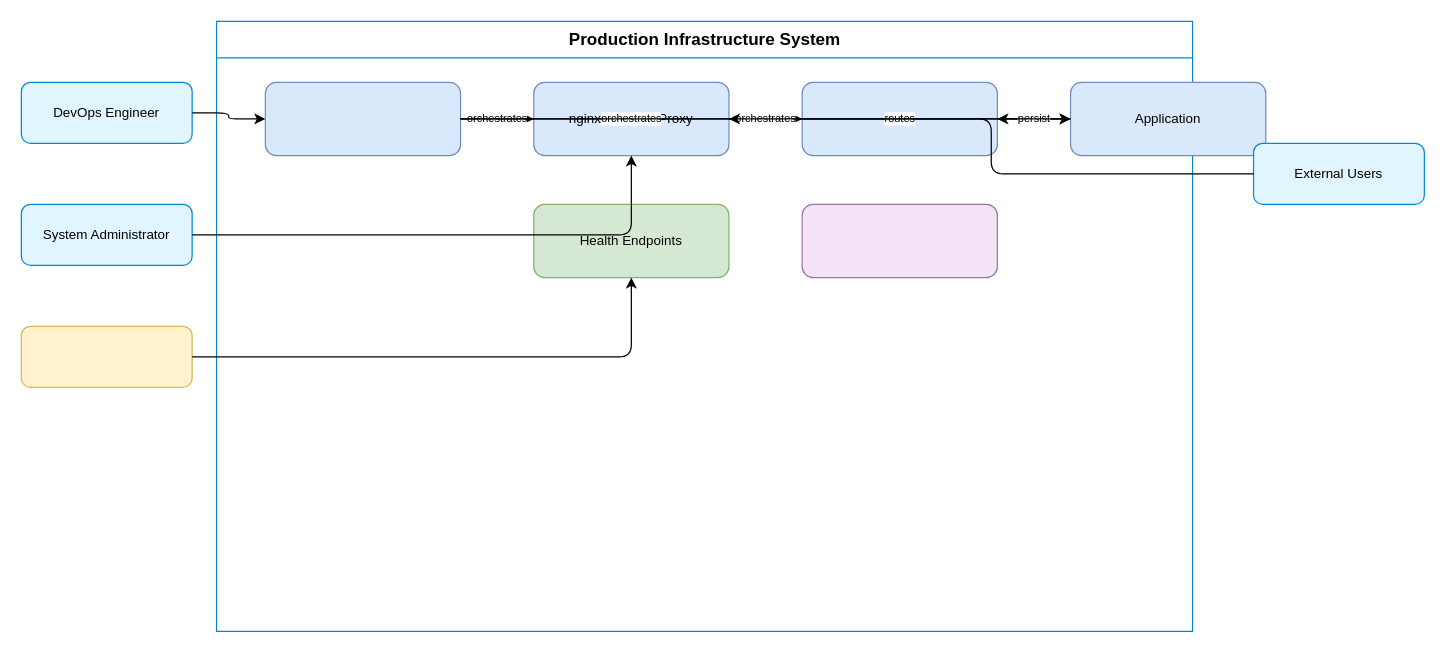
Image size: 1446x653. Some labels were removed from this diagram. The centre of each missing label's shape, as x and y in pixels:
"CORS/CSRF" goes at (x=899, y=240).
"Docker Compose" goes at (x=362, y=118).
"Monitoring System" goes at (x=106, y=356).
"PostgreSQL" goes at (x=899, y=118).
